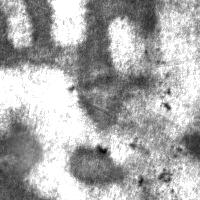patches: (64, 1, 149, 130), (2, 116, 72, 186), (1, 1, 63, 69), (1, 115, 44, 200), (83, 1, 161, 37), (65, 143, 124, 185), (179, 127, 200, 160)
